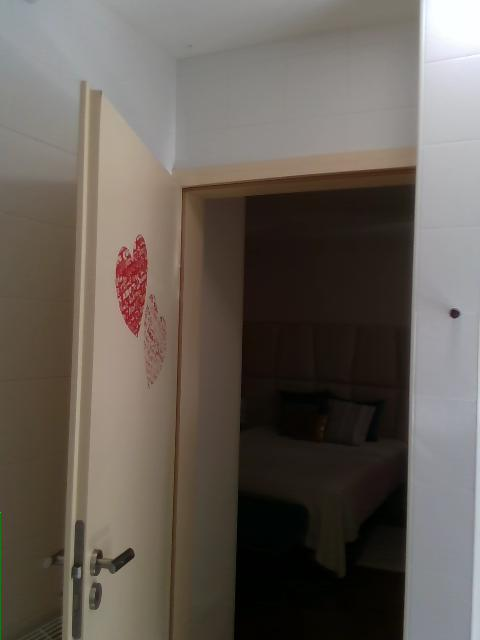open_door: (167, 146, 420, 639)
